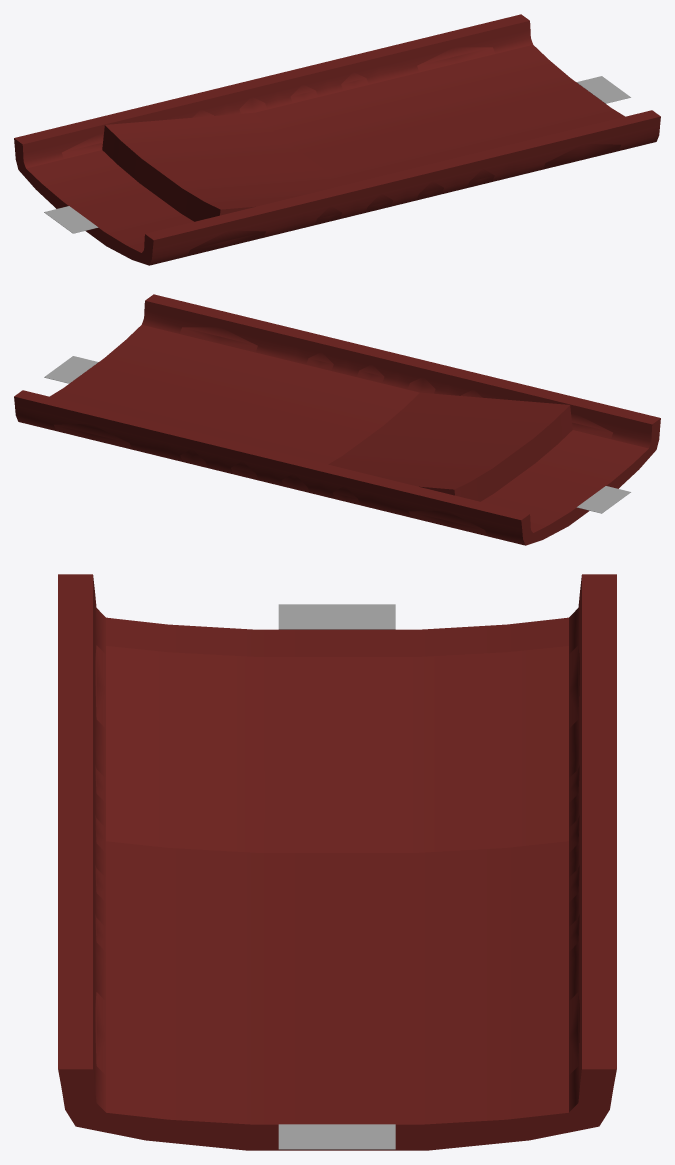
The model's file is StraightRamp2.fbx.
3 renders of one model, top to bottom at view 1: azimuth 30°, elevation 25°; view 2: azimuth 150°, elevation 25°; view 3: azimuth 270°, elevation 25°, orthographic. The views are drawn at different scales.
Parts seen in each view (by area): view 1: pasted__pPipe3, pasted__pCube2, pasted__pCube3; view 2: pasted__pPipe3, pasted__pCube3, pasted__pCube2; view 3: pasted__pPipe3, pasted__pCube3, pasted__pCube2.
Boxes of the visible parts, x1=… form: pasted__pPipe3: x1=14, y1=14, x2=660, y2=265; pasted__pCube2: x1=576, y1=76, x2=630, y2=103; pasted__pCube3: x1=44, y1=206, x2=98, y2=233; pasted__pPipe3: x1=14, y1=294, x2=660, y2=545; pasted__pCube3: x1=576, y1=486, x2=630, y2=513; pasted__pCube2: x1=44, y1=356, x2=98, y2=383; pasted__pPipe3: x1=58, y1=574, x2=616, y2=1150; pasted__pCube3: x1=278, y1=604, x2=395, y2=629; pasted__pCube2: x1=278, y1=1124, x2=395, y2=1149.
Bounding box in the file's own units: 22 × 1.63 × 9.54.
